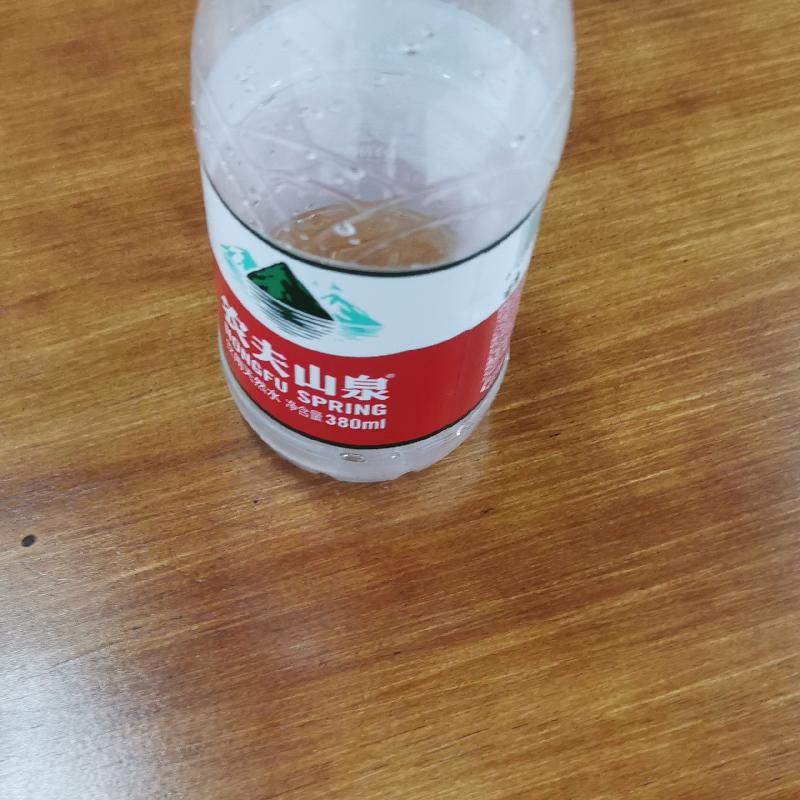bottles: (185, 1, 578, 492)
